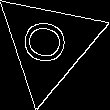O_E: (20, 18, 77, 70)
